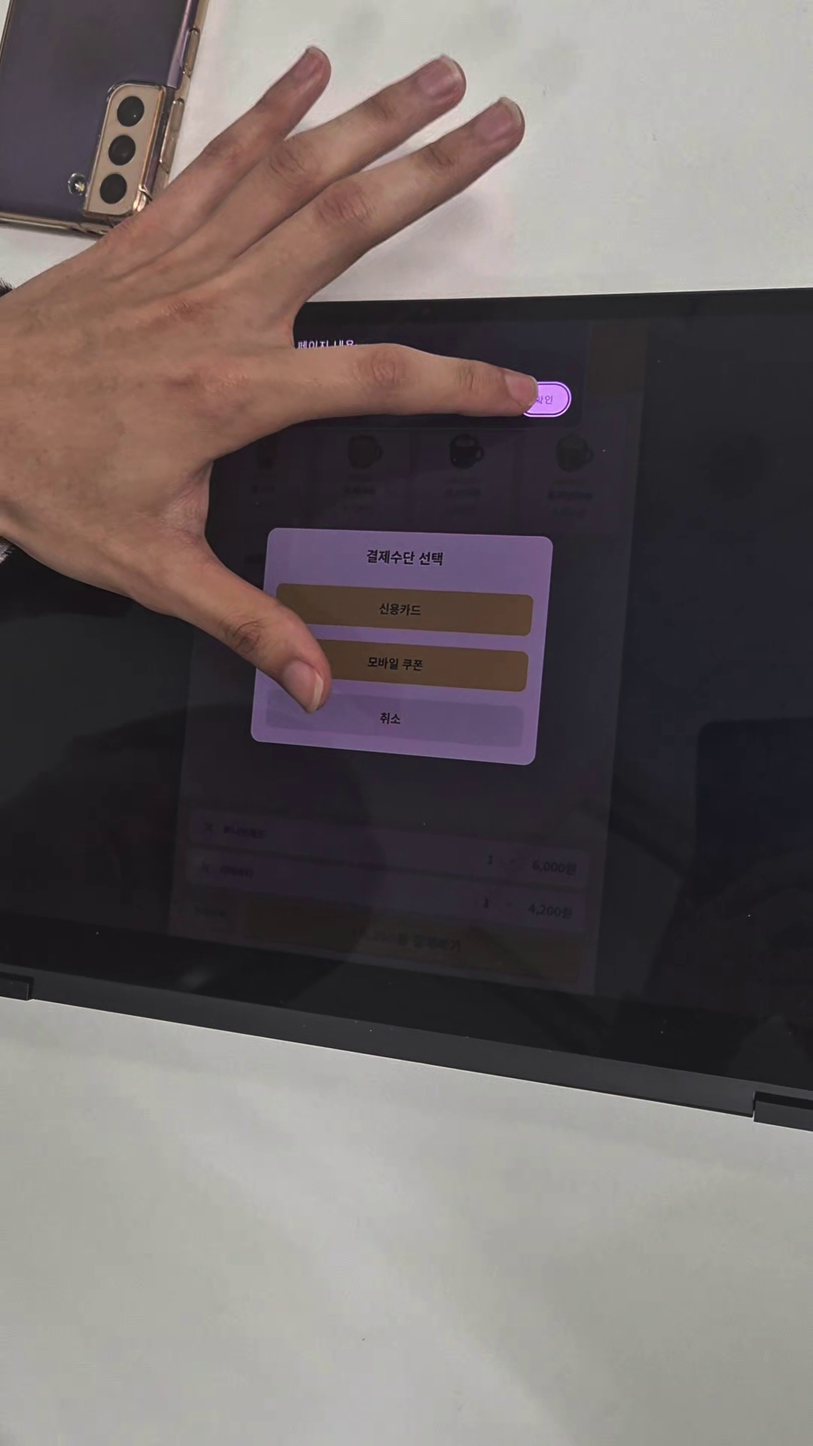action_button: (239, 898, 582, 983), (265, 690, 525, 750), (274, 584, 532, 637), (270, 639, 528, 692), (183, 895, 233, 933)
cart_item: (184, 849, 585, 931), (187, 809, 588, 890)
popup_modal: (250, 529, 553, 767)
